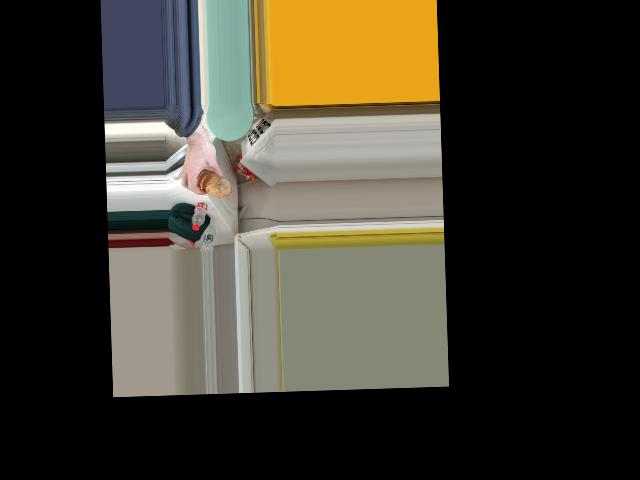sweet_potato: (195, 168, 226, 199)
